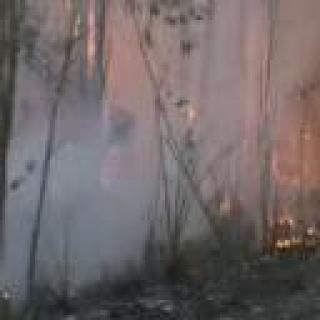fire: (315, 167, 320, 238), (47, 0, 80, 7)
